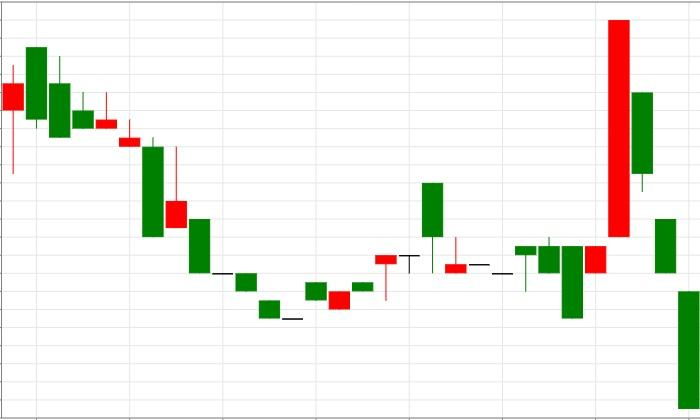three_black_crows_fall: (561, 19, 700, 409)
